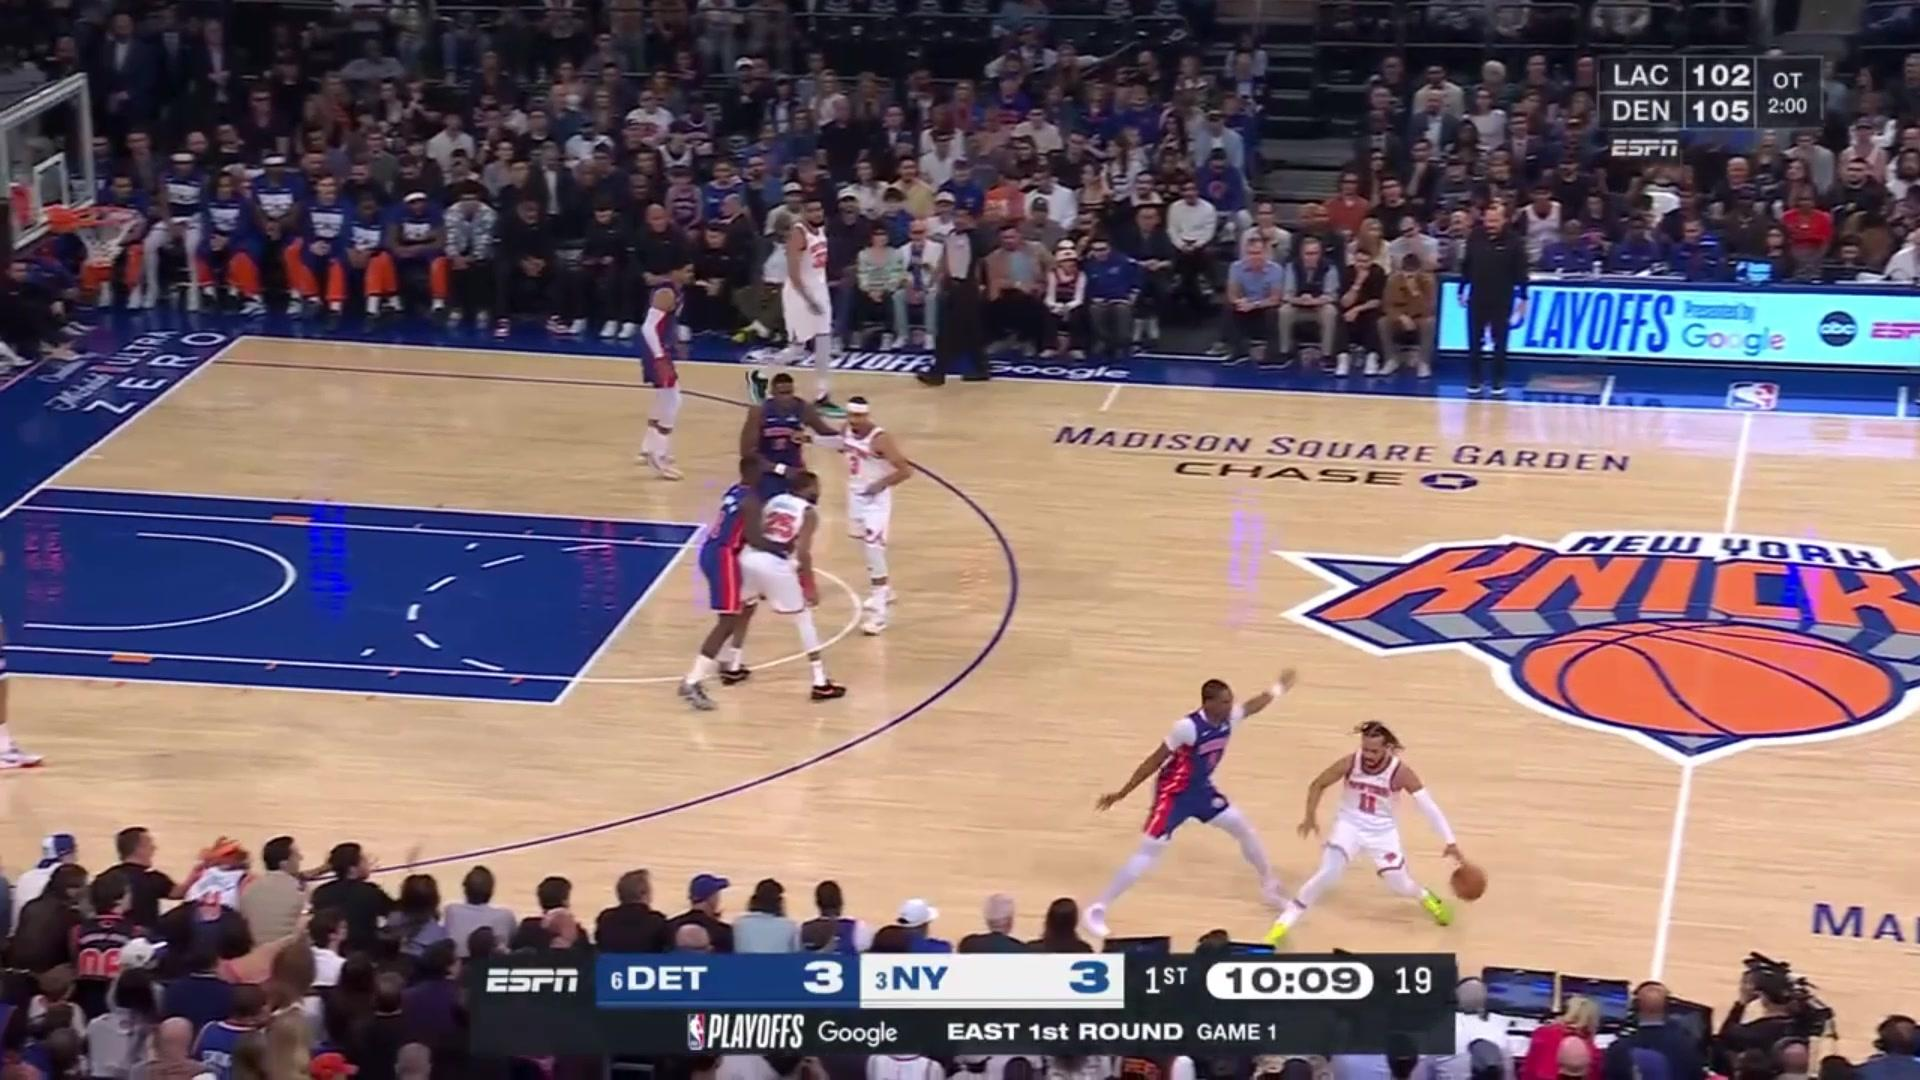no_foul: (1085, 657, 1522, 943)
